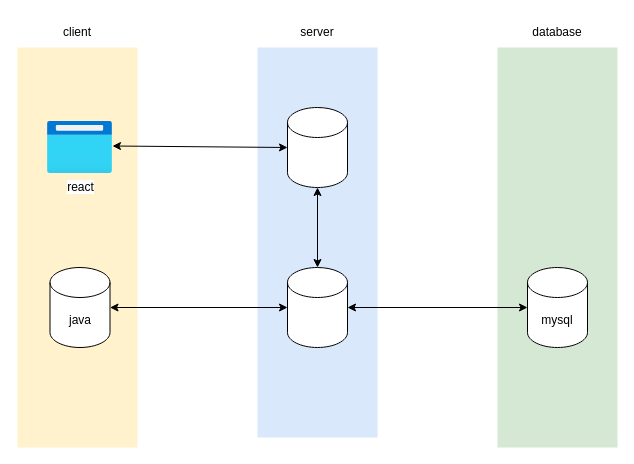
The diagram is 634 pixels wide and 464 high, and some of its shapes have lost their labels. The centre of each missing label's shape, as x and y in pixels:
"grpc-go" goes at (317,307).
"grpc-go-envoy" goes at (317,147).
